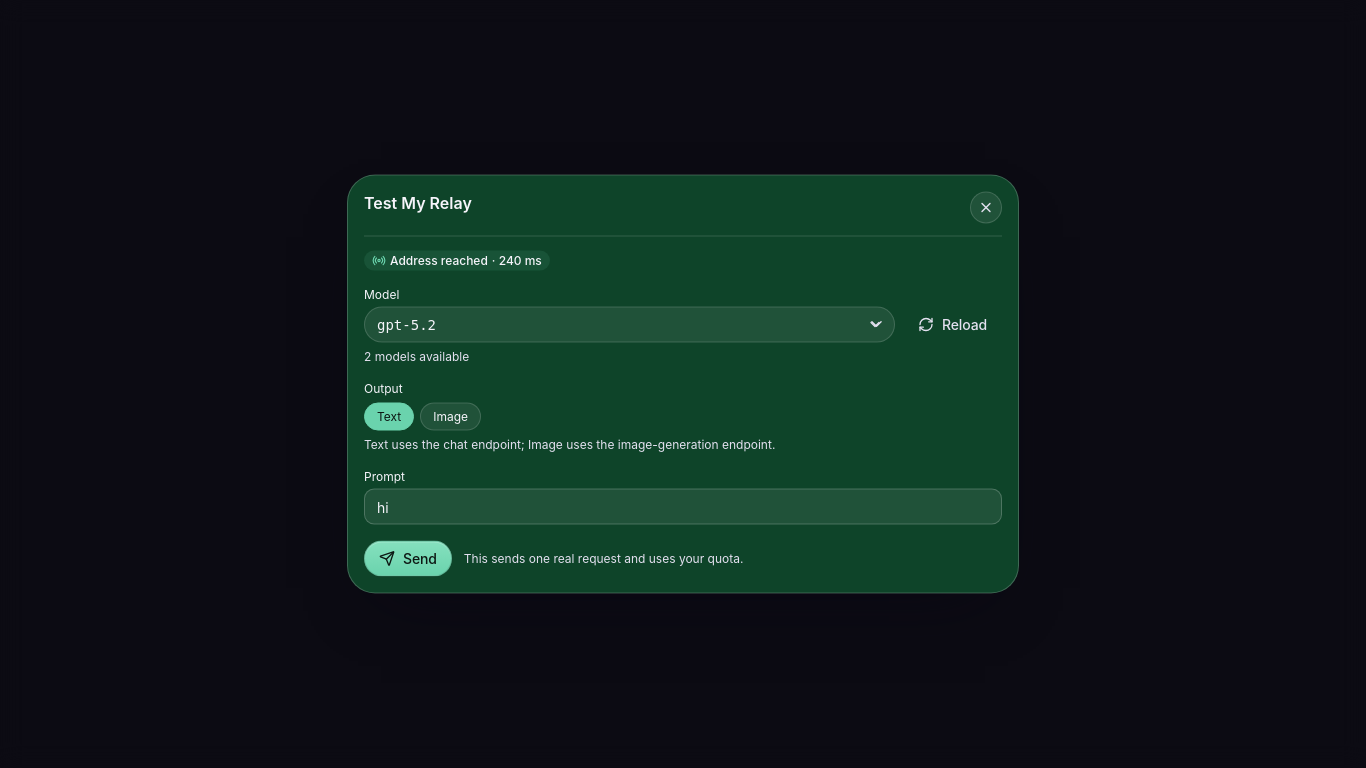
Test: ProviderTestModal › shows the service's own refusal as the result rather than an error card
expect the dropdown labelled "Model" is shown: met, box top-left (364, 306), bottom-right (895, 342)
Click the button named "Send" at (408, 558), box top-left (364, 540), bottom-right (452, 576)
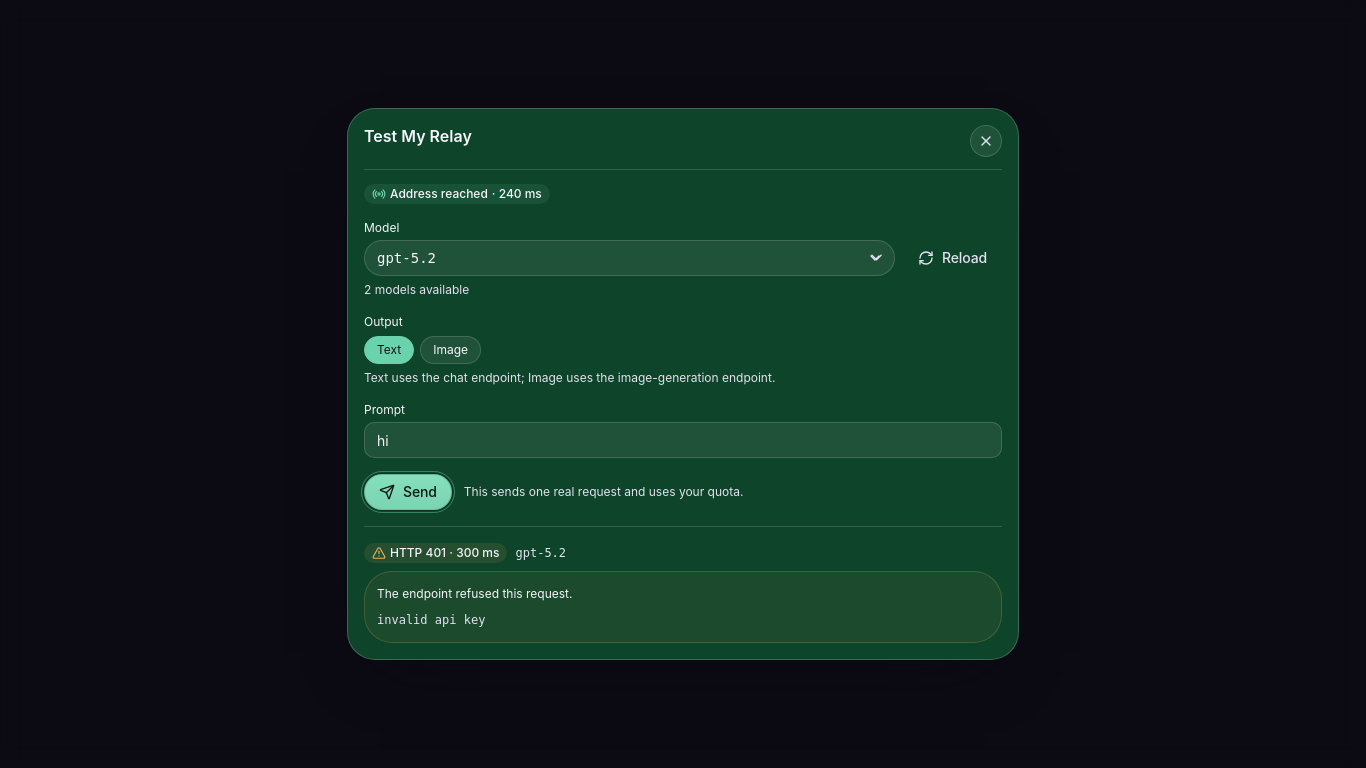
expect the text "The endpoint refused this request." is shown: met, box top-left (377, 586), bottom-right (572, 601)
expect the text "invalid api key" is shown: met, box top-left (377, 613), bottom-right (485, 627)
